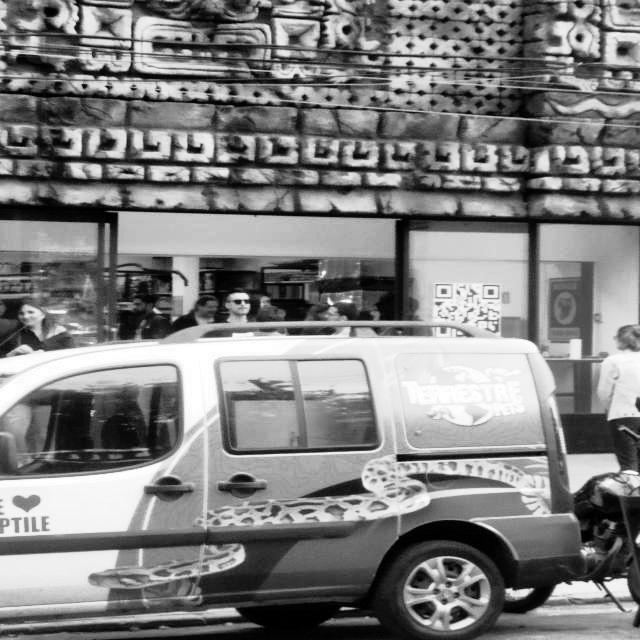qr_code: (435, 284, 500, 337)
